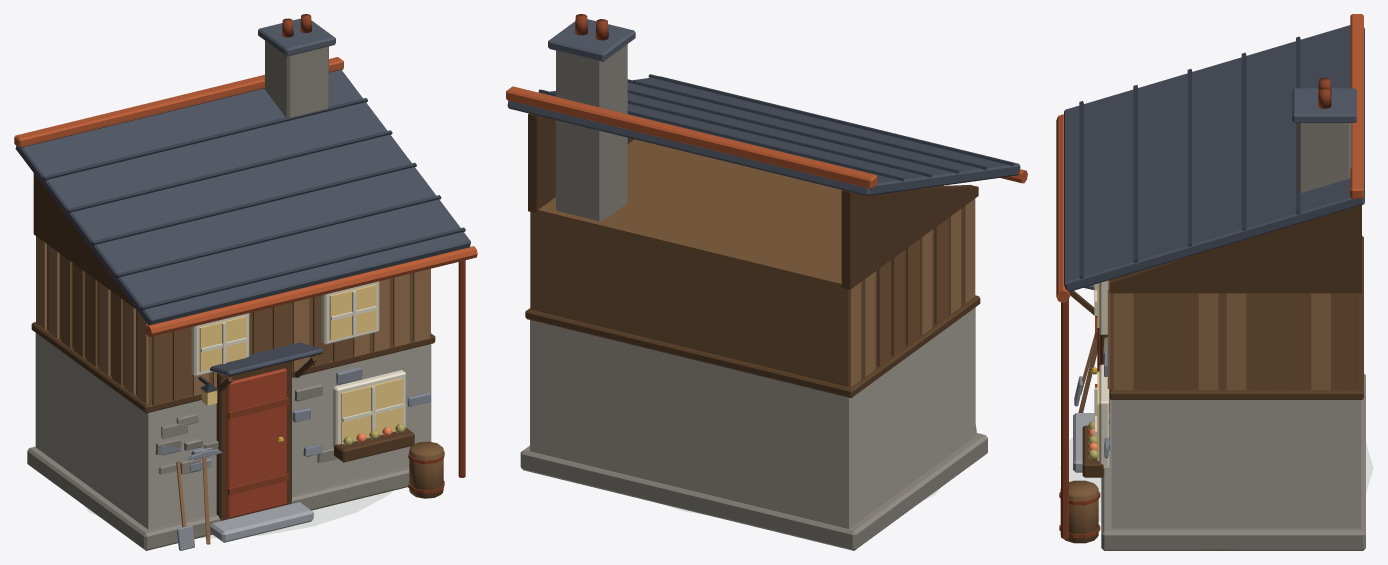
Rendered from terrace_house.glb.
3 views of the same model, side by side, from view 1: azimuth 30°, elevation 25°; view 2: azimuth 150°, elevation 25°; view 3: azimuth 270°, elevation 25° (orthographic). The views are drawn at different scales.
Visible parts, largest first — view 1: terrace_house; view 2: terrace_house; view 3: terrace_house.
Part boxes in pixels (bbox=[...]): terrace_house: bbox=[14, 14, 477, 550]; terrace_house: bbox=[506, 14, 1027, 550]; terrace_house: bbox=[1056, 14, 1365, 550].
Bounding box in the file's own units: 4.26 × 4.98 × 3.24.
